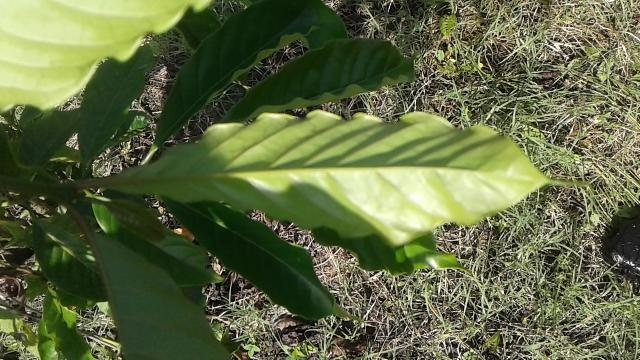healthy: (96, 104, 605, 250)
